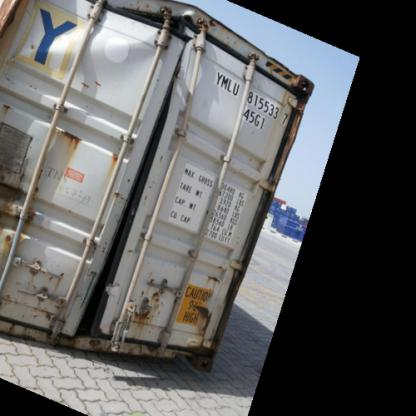Damage: (1, 0, 207, 73), (18, 259, 76, 334), (178, 262, 224, 348), (1, 163, 42, 251), (115, 287, 165, 340), (55, 115, 90, 149)
